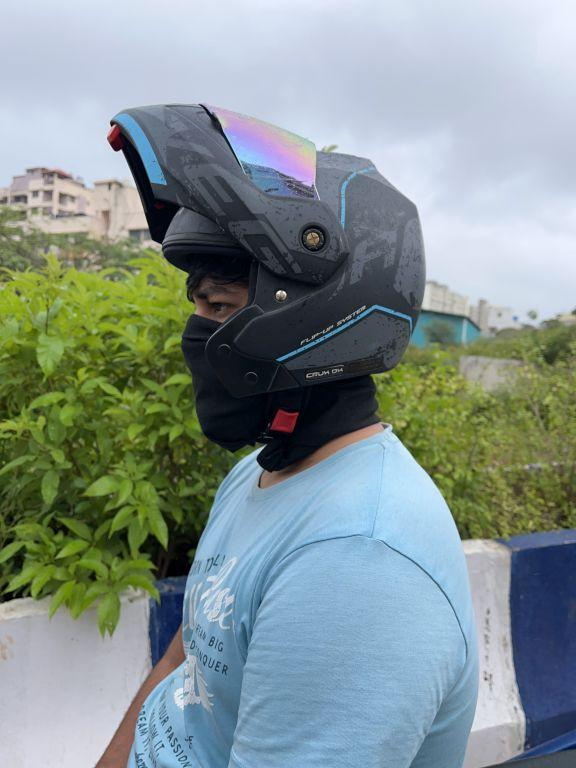helmet: (92, 95, 433, 454)
